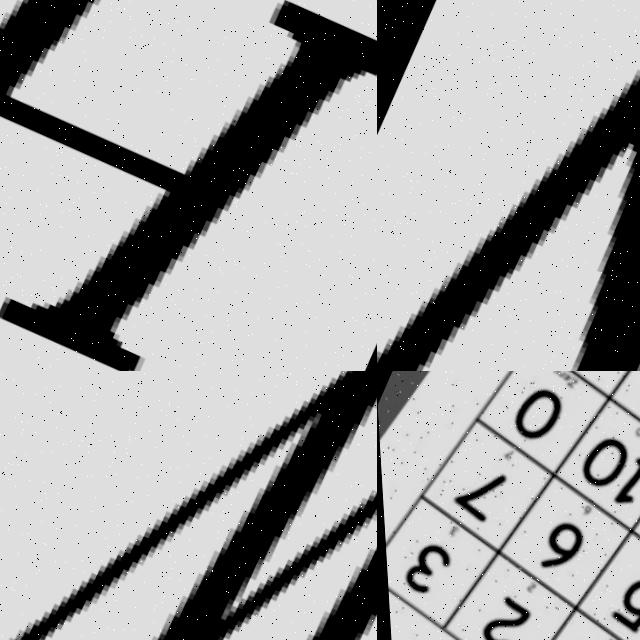0: (493, 374, 573, 459), (560, 422, 635, 504)
1: (594, 445, 640, 522)
2: (460, 582, 539, 640)
3: (385, 527, 458, 608)
5: (590, 564, 640, 640)
6: (517, 509, 593, 591)
7: (438, 453, 518, 539)
H: (0, 0, 377, 371)
N: (377, 0, 640, 371)
W: (0, 371, 377, 640)
